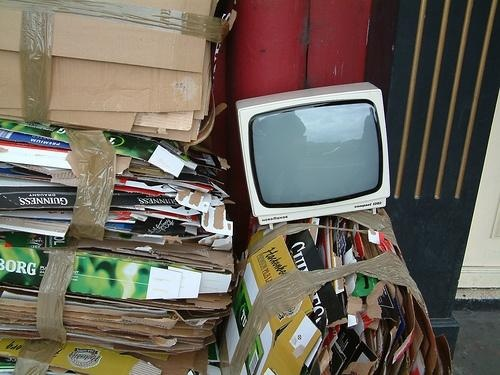tvmonitor: (235, 81, 394, 227)
